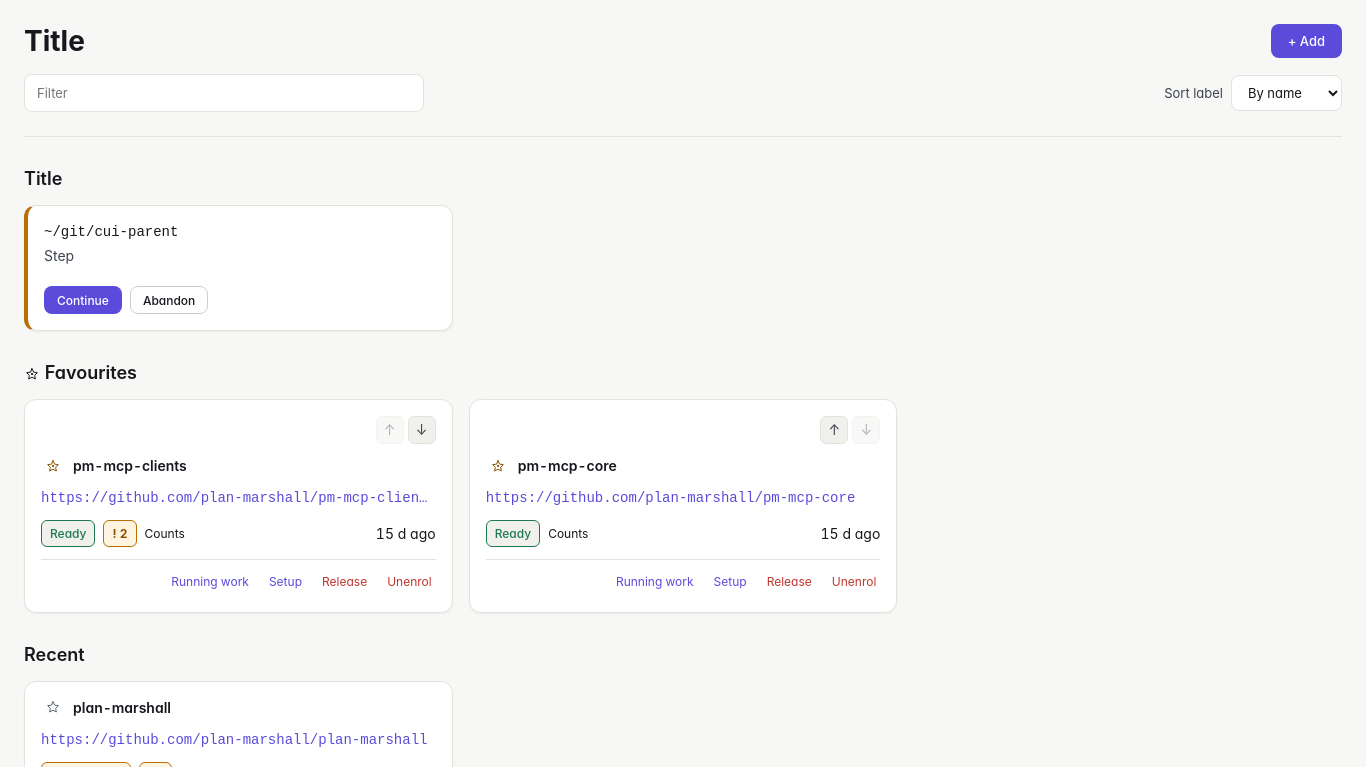
Test: ProjectExplorerView component › filters projects by text query
This screenshot has width=1366, height=767.
Type "http" into the search field with test id "project-filter-input" at [224, 93], box [24,74,424,112]
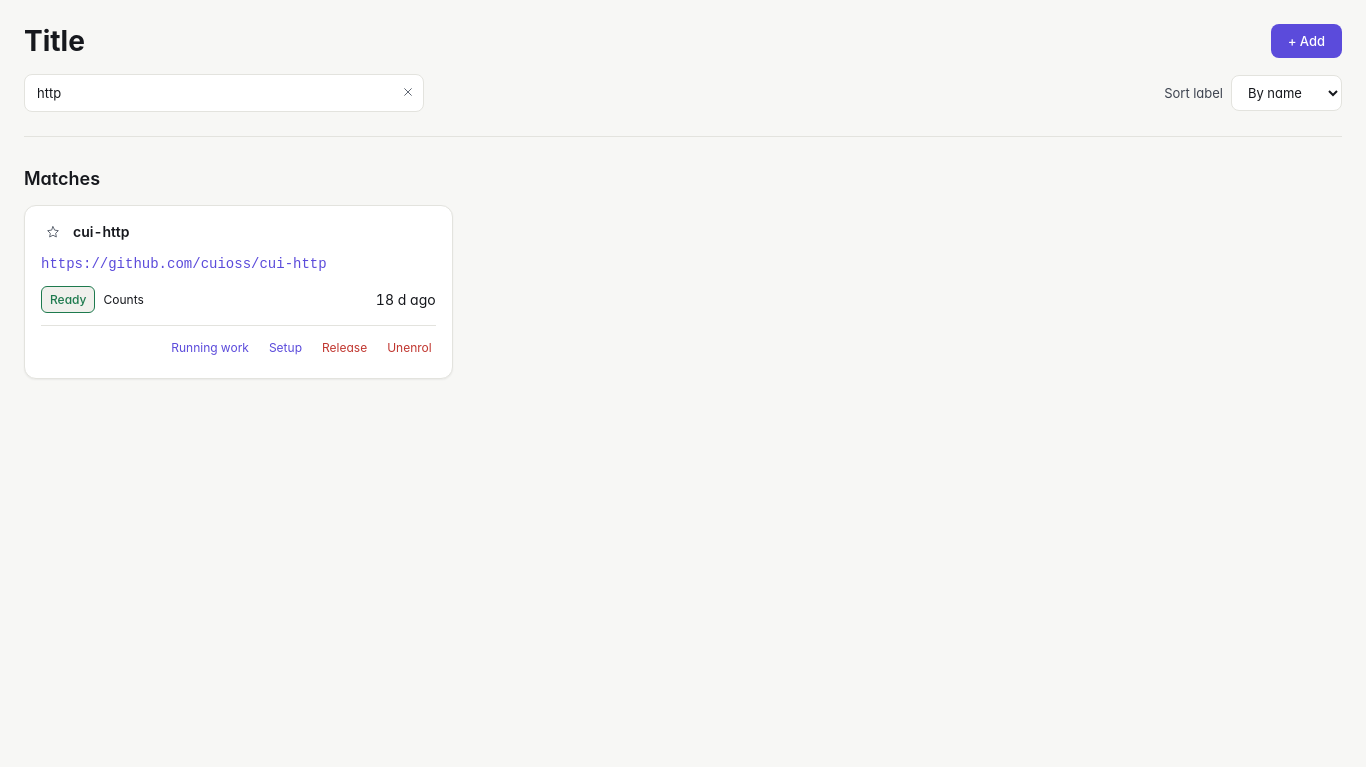
Expected: the element with test id "project-card-cui-http" is shown, [24,205,453,379]
Result: the element with test id "section-filtered-matches" is shown at [24,168,453,379]
